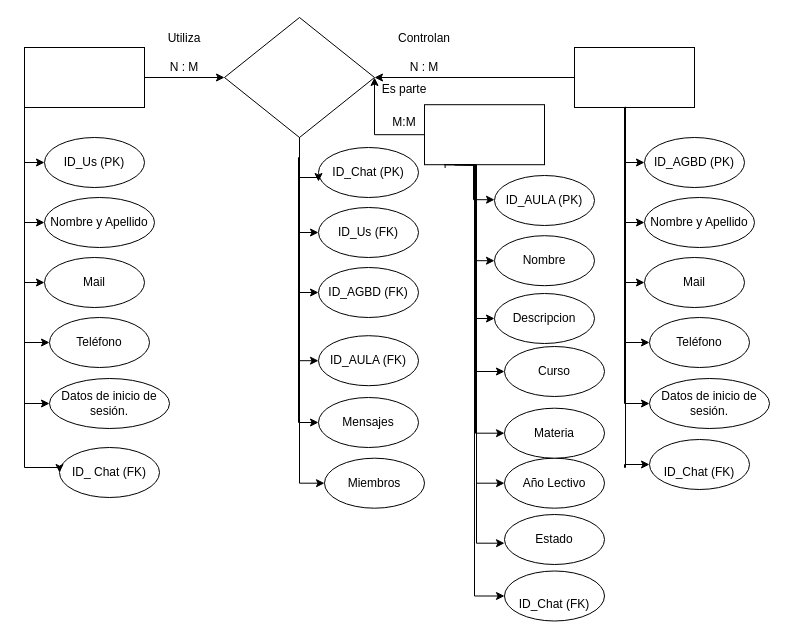
Some shapes in this 787 by 639 pixel diagram are drawn without their labels. The shapes that lost their labels are listed below. From the top down, each one's centre as x and y in pixels, then its label:
the point at 84,77: Usuario
the point at 299,77: Chats
the point at 634,77: AGBD / Moderador
the point at 484,134: Aula
